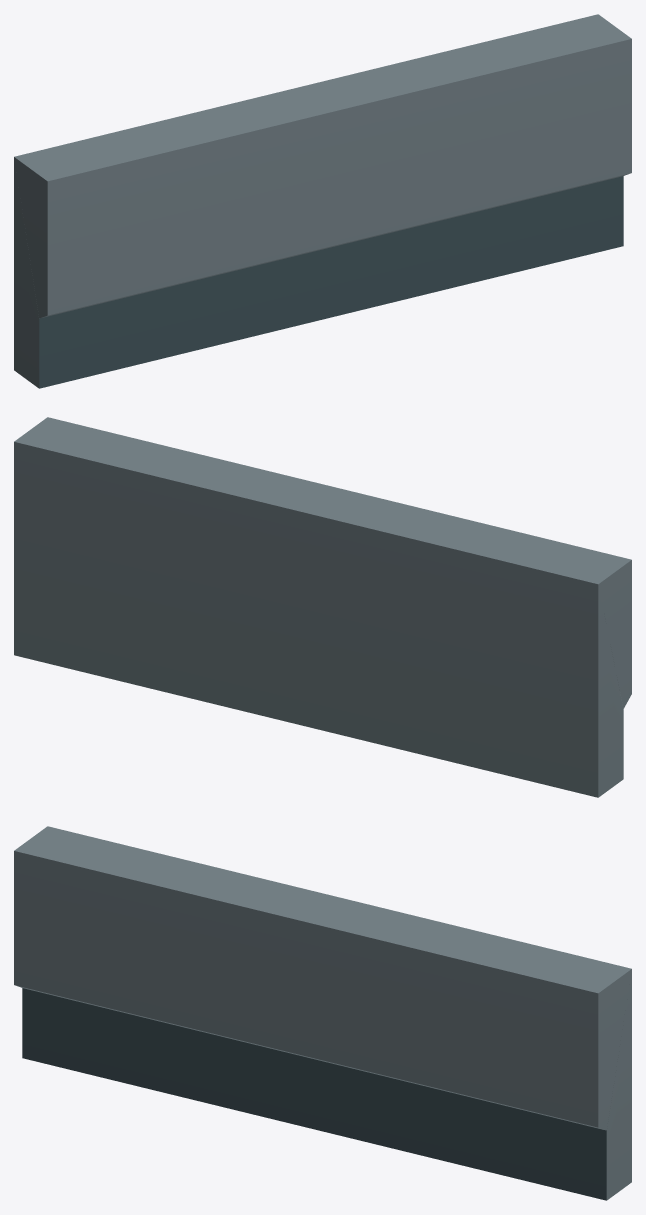
File: Wall_type_C_016.glb
3 views of the same model, one above another, from view 1: azimuth 30°, elevation 25°; view 2: azimuth 150°, elevation 25°; view 3: azimuth 330°, elevation 25° (orthographic).
Parts seen in each view (by area): view 1: Wall_type_C_016; view 2: Wall_type_C_016; view 3: Wall_type_C_016.
Part boxes in pixels (bbox=[...]): Wall_type_C_016: bbox=[14, 14, 631, 388]; Wall_type_C_016: bbox=[14, 417, 631, 797]; Wall_type_C_016: bbox=[14, 826, 631, 1200].
Bounding box in the file's own units: 2 × 0.7 × 0.2.
1 material, 1 textured.
